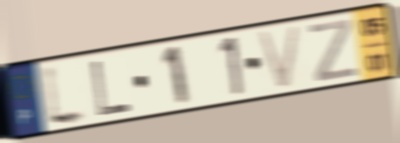1: (161, 42, 192, 108), (218, 34, 246, 100)
L: (40, 60, 92, 131), (89, 58, 135, 119)
V: (254, 21, 305, 93)
Z: (307, 16, 359, 84)
